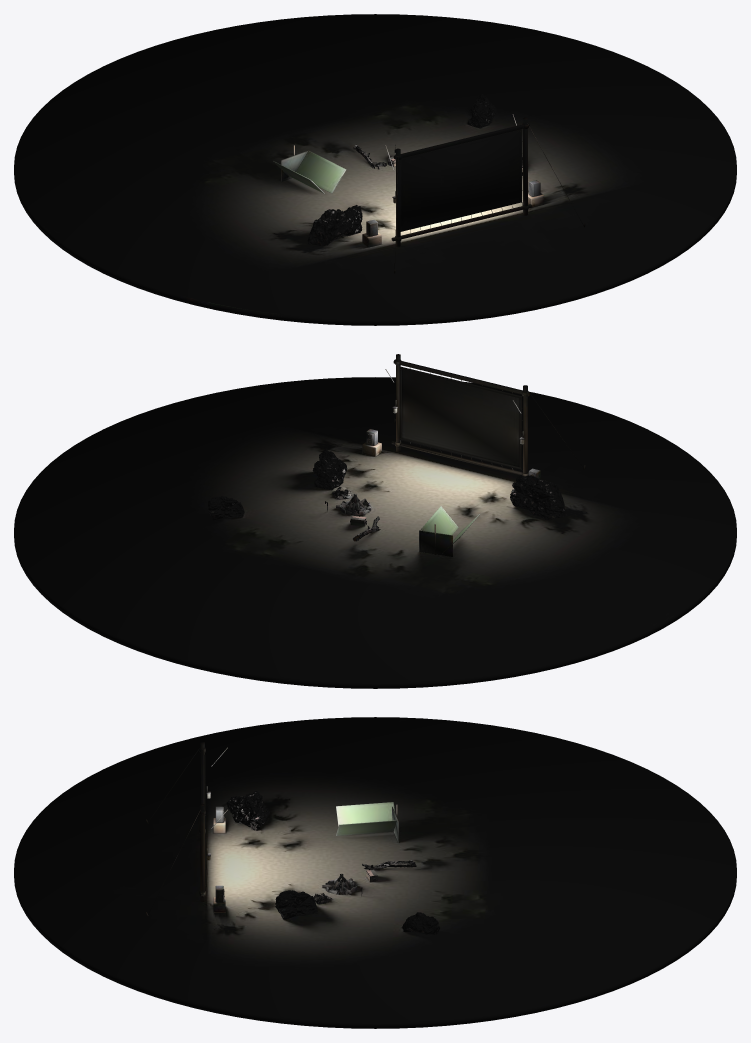
File: jungle_glow.glb
3 renders of one model, top to bottom at view 1: azimuth 30°, elevation 25°; view 2: azimuth 150°, elevation 25°; view 3: azimuth 270°, elevation 25°, orthographic.
Parts seen in each view (by area): view 1: jungle_ground, jungle_props; view 2: jungle_ground, jungle_props; view 3: jungle_ground, jungle_props.
Boxes of the visible parts, <box> form: jungle_ground: <box>14,14,736,325</box>; jungle_props: <box>307,94,522,246</box>; jungle_ground: <box>14,354,736,688</box>; jungle_props: <box>208,449,567,541</box>; jungle_ground: <box>14,717,736,1028</box>; jungle_props: <box>226,791,440,934</box>.
Bounding box in the file's own units: 32 × 4.99 × 32.
2 materials, 2 textured.
